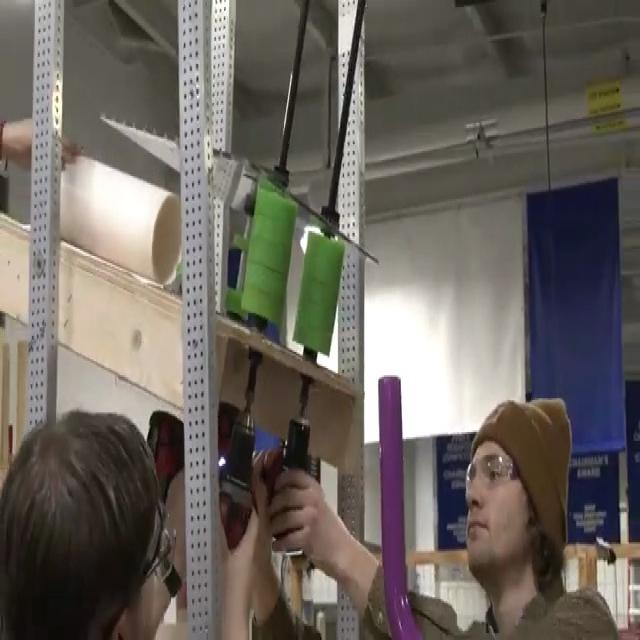Coral: (57, 150, 182, 286)
